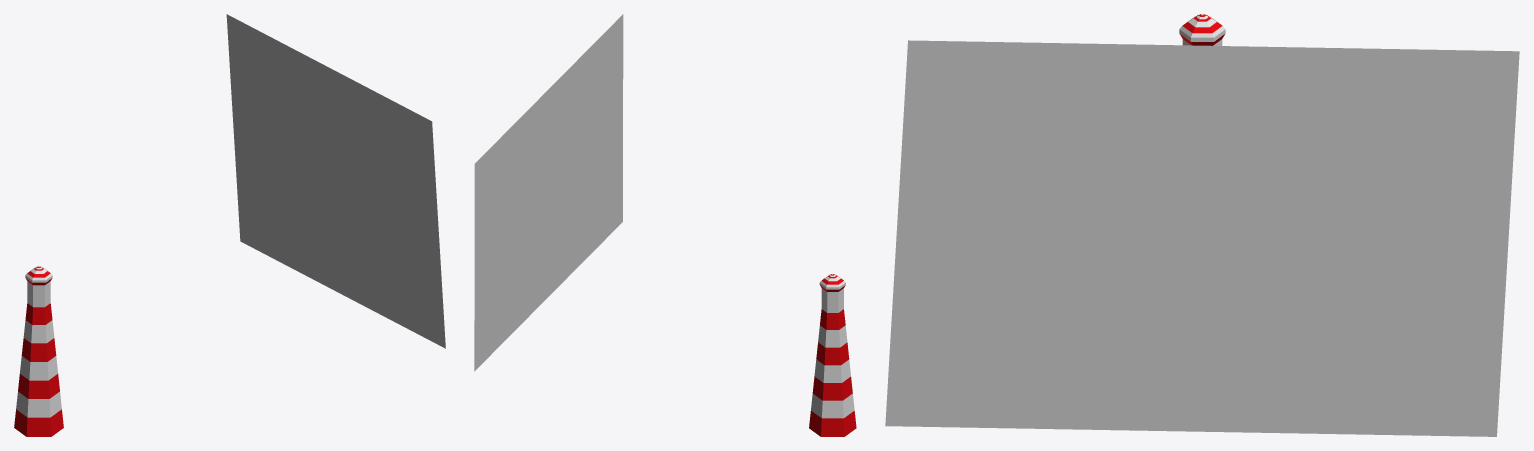
Rendered from faro.fbx.
3 views of the same model, side by side, from view 1: azimuth 30°, elevation 25°; view 2: azimuth 150°, elevation 25°; view 3: azimuth 270°, elevation 25° (orthographic). The views are drawn at different scales.
Parts seen in each view (by area): view 1: sol, FARO; view 2: sol, FARO; view 3: sol, FARO.
Boxes of the visible parts, box(x1,y1,x2,y2) form: sol: box(226, 14, 445, 348); FARO: box(14, 266, 63, 436); sol: box(474, 14, 623, 371); FARO: box(809, 274, 856, 436); sol: box(885, 40, 1519, 436); FARO: box(1179, 14, 1225, 45).
Bounding box in the file's own units: 2118 × 1800 × 2069.
